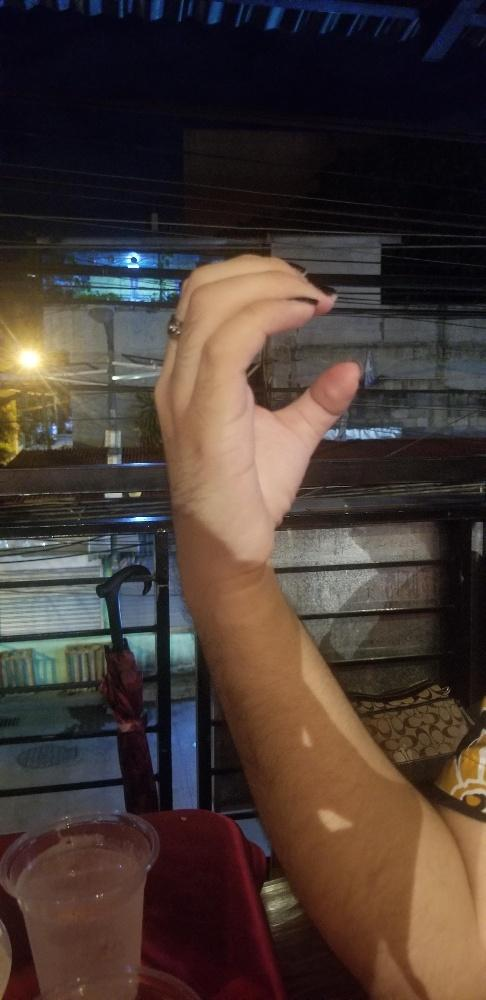c: (148, 252, 364, 562)
